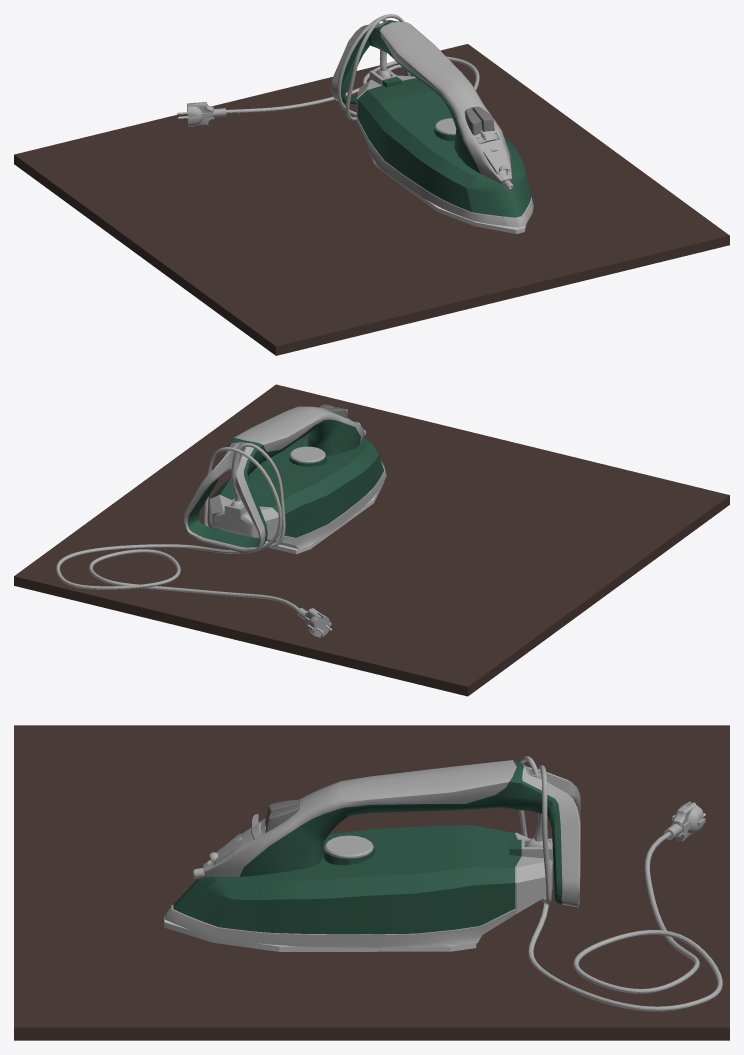
The model's file is hot_iron.glb.
The picture shows the model from 3 angles, top to bottom: view 1: azimuth 30°, elevation 25°; view 2: azimuth 150°, elevation 25°; view 3: azimuth 270°, elevation 25°; orthographic projection. The views are drawn at different scales.
Visible parts, largest first — view 1: pCube71, polySurface16, polySurface57, pCylinder7, polySurface14, pCube86, polySurface17; view 2: pCube71, polySurface16, polySurface57, pCylinder7, pCube86; view 3: pCube71, polySurface16, polySurface57, pCylinder7, polySurface14, pCube86, polySurface9, polySurface17, polySurface41.
Part boxes in pixels (bbox=[...]): pCube71: bbox=[14, 44, 729, 355]; polySurface16: bbox=[356, 75, 533, 227]; polySurface57: bbox=[330, 19, 511, 185]; pCylinder7: bbox=[226, 14, 479, 120]; polySurface14: bbox=[371, 158, 526, 233]; pCube86: bbox=[177, 102, 226, 126]; polySurface17: bbox=[465, 106, 494, 135]; pCube71: bbox=[14, 384, 729, 696]; polySurface16: bbox=[209, 437, 386, 549]; polySurface57: bbox=[183, 406, 364, 552]; pCylinder7: bbox=[56, 443, 299, 610]; pCube86: bbox=[297, 608, 332, 637]; pCube71: bbox=[14, 725, 729, 1040]; polySurface16: bbox=[164, 825, 552, 947]; polySurface57: bbox=[203, 760, 580, 907]; pCylinder7: bbox=[518, 756, 722, 1011]; polySurface14: bbox=[164, 916, 476, 951]; pCube86: bbox=[663, 801, 705, 841]; polySurface9: bbox=[324, 835, 373, 858]; polySurface17: bbox=[265, 799, 299, 832]; polySurface41: bbox=[509, 838, 553, 863].
Size of the model in its own units: 49.75 by 13.46 by 49.75.
